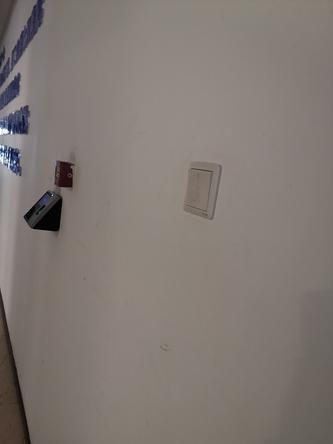switch: (180, 162, 221, 215)
